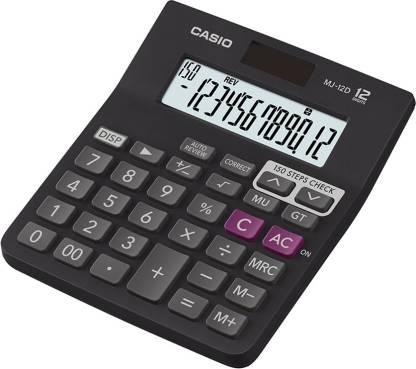Calculator: (2, 1, 415, 369)
